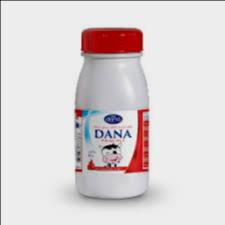Plastic: (72, 25, 152, 199)
